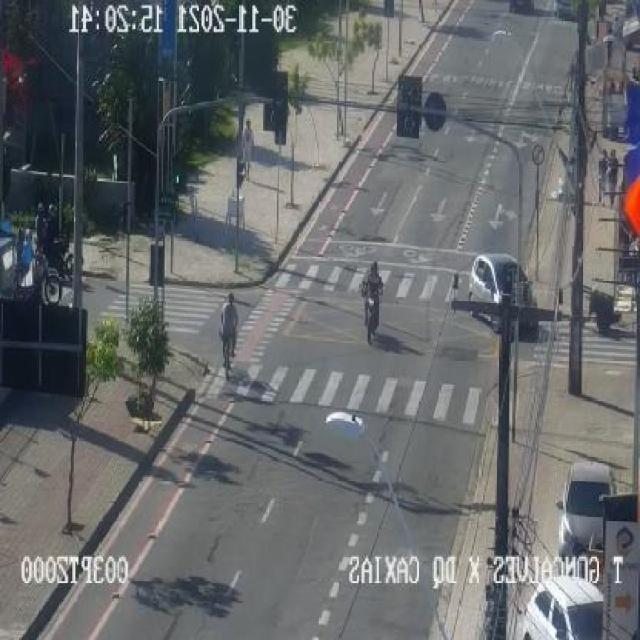Car: (554, 460, 616, 560), (522, 575, 605, 640), (471, 251, 538, 329)
Cycle: (3, 252, 63, 306), (38, 234, 83, 284), (218, 313, 240, 384), (362, 279, 386, 341)
